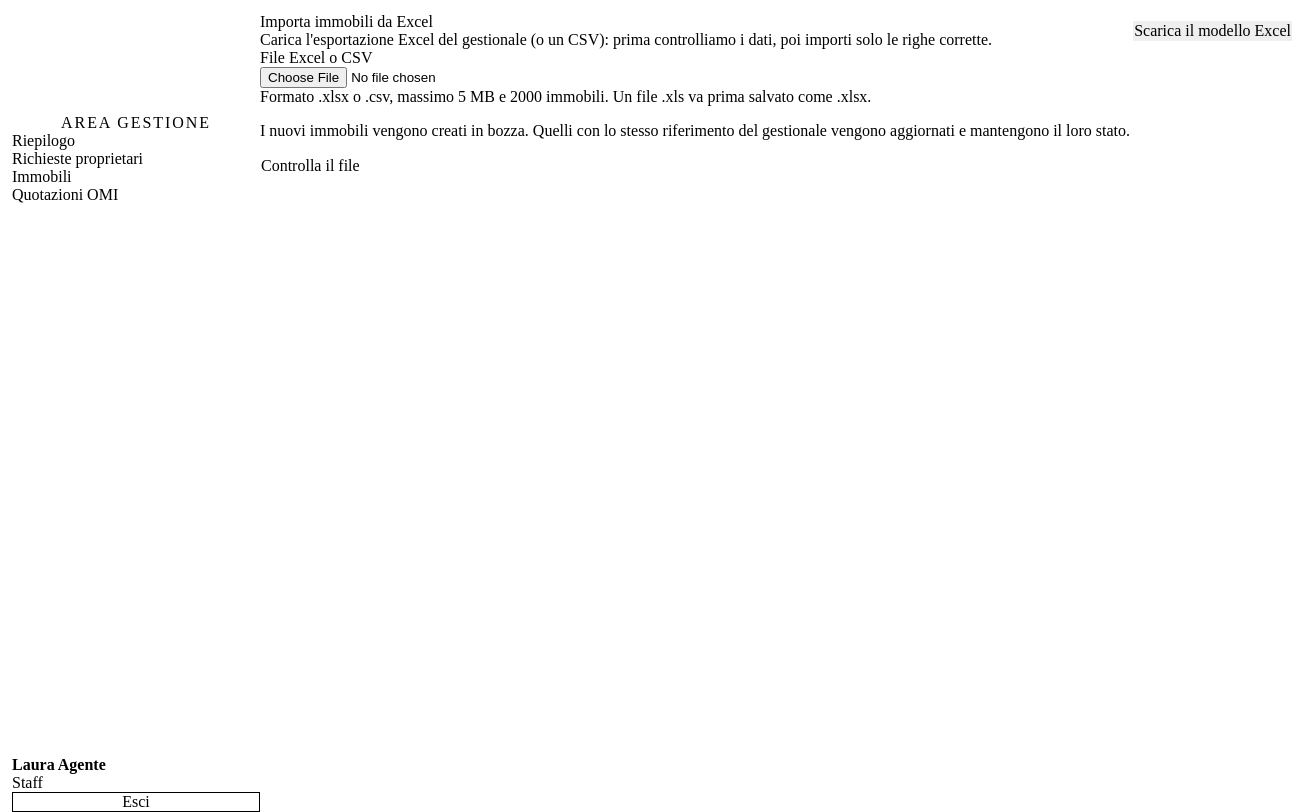
Test: Excel import › filters the rows with problems
The image size is (1304, 812).
Earlier steps of the test are not shown.
Click the button "Controlla il file" at [310, 166], box [260,156,361,176]
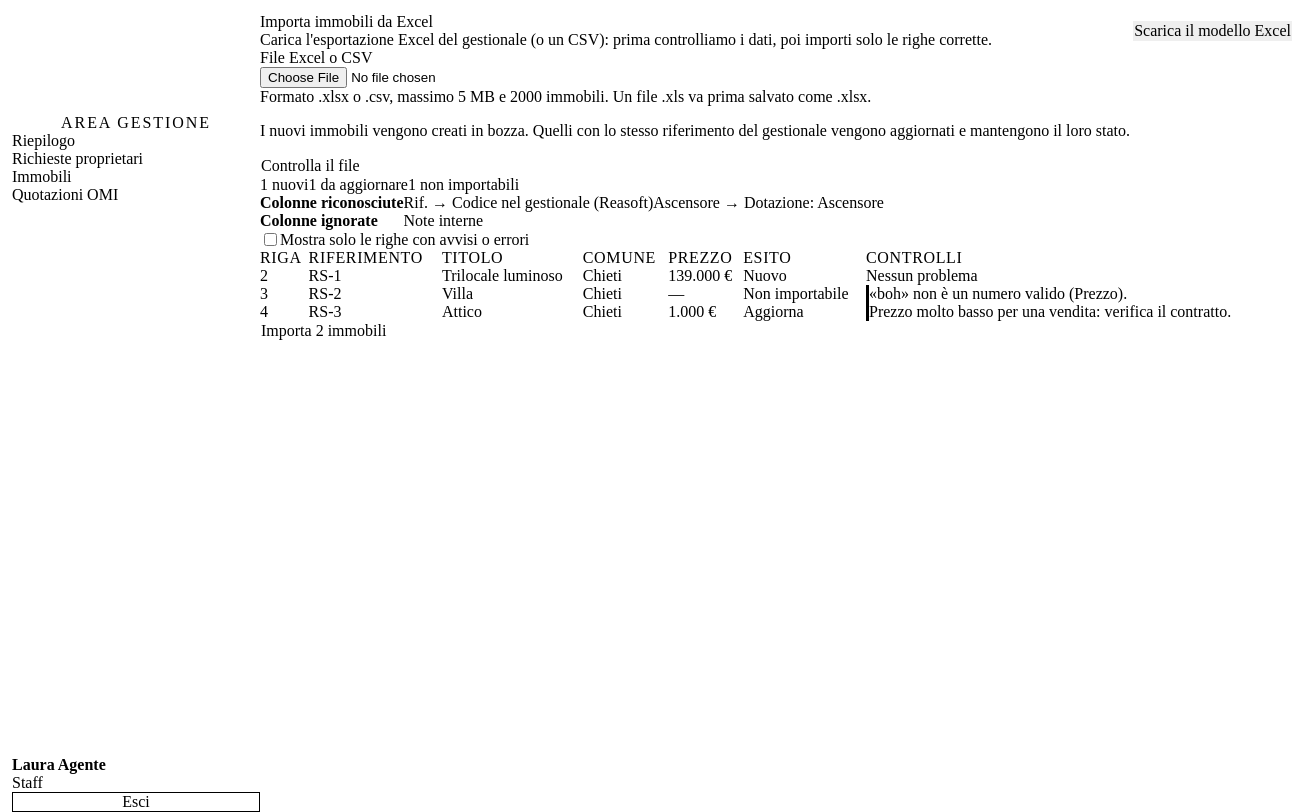
Click the checkbox labelled "Mostra solo le righe con avvisi o errori" at [270, 240], box [264,233,277,246]
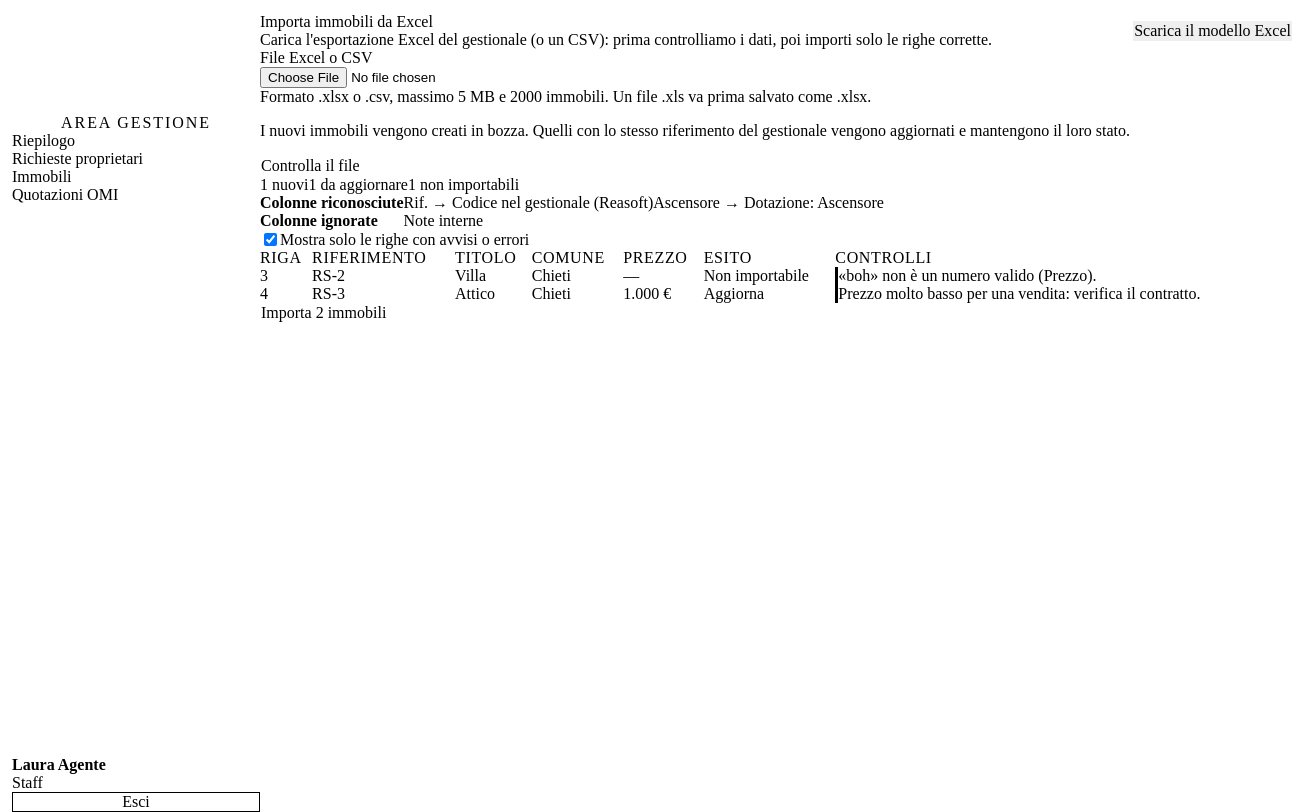
Now the text "RS-2" is shown, box [312,267,455,285]
Now the text "RS-3" is shown, box [312,285,455,303]
Now the text "RS-1" is gone
